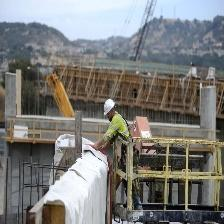Person: (99, 88, 135, 213)
helmet: (103, 96, 116, 118)
vest: (111, 117, 125, 138)
